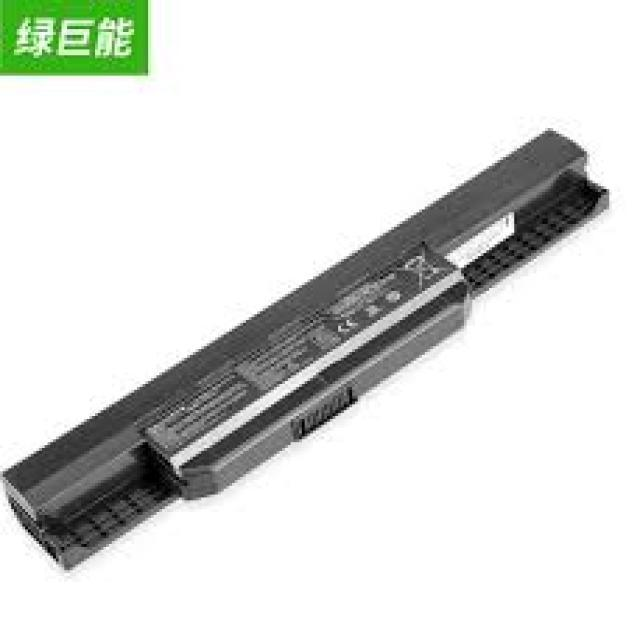Battery: (0, 115, 640, 620)
